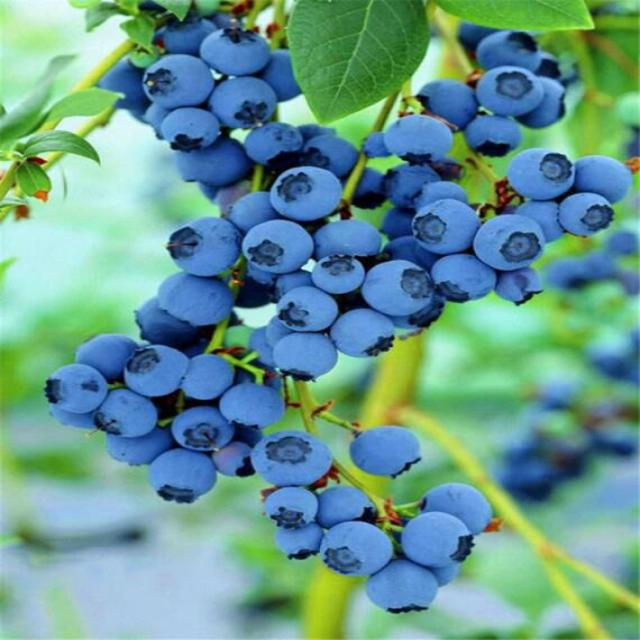BlueBerry - v1: (345, 422, 441, 482), (148, 214, 242, 274), (310, 522, 402, 581), (416, 482, 506, 540), (266, 318, 346, 380), (257, 169, 353, 219), (257, 427, 335, 488), (120, 303, 220, 349), (400, 513, 472, 576), (136, 56, 223, 107), (362, 252, 431, 316), (142, 442, 208, 508), (368, 115, 455, 165), (474, 214, 550, 269), (38, 359, 115, 413), (201, 27, 276, 79), (155, 275, 237, 322), (426, 253, 498, 305), (372, 558, 434, 618), (404, 207, 484, 253), (86, 59, 154, 112), (91, 386, 166, 434), (173, 144, 257, 186), (212, 81, 288, 127), (214, 380, 286, 428), (166, 402, 239, 449), (311, 492, 387, 536), (511, 148, 576, 197), (475, 67, 537, 118), (66, 331, 134, 377), (240, 221, 306, 268), (571, 154, 630, 206), (550, 195, 619, 238), (338, 308, 397, 357), (127, 350, 187, 398), (273, 289, 339, 332), (94, 427, 175, 462), (160, 111, 226, 153), (312, 222, 389, 257), (480, 29, 542, 72), (212, 191, 291, 224), (302, 134, 362, 176), (278, 511, 324, 565), (240, 125, 299, 167), (250, 482, 314, 520), (264, 50, 312, 100), (246, 322, 291, 374), (183, 358, 237, 400), (156, 18, 218, 54), (423, 78, 476, 120), (42, 400, 106, 434), (466, 116, 520, 156), (495, 272, 553, 309), (380, 166, 434, 205), (512, 199, 563, 239), (212, 437, 257, 482), (531, 78, 568, 127), (313, 259, 363, 294), (354, 166, 390, 210), (413, 559, 464, 590), (536, 53, 572, 82), (421, 180, 462, 205)
